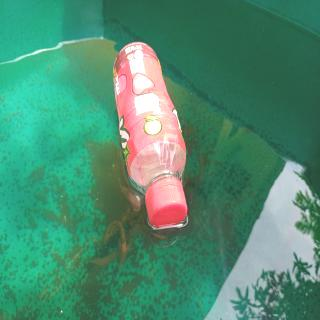bottle: (111, 41, 188, 230)
